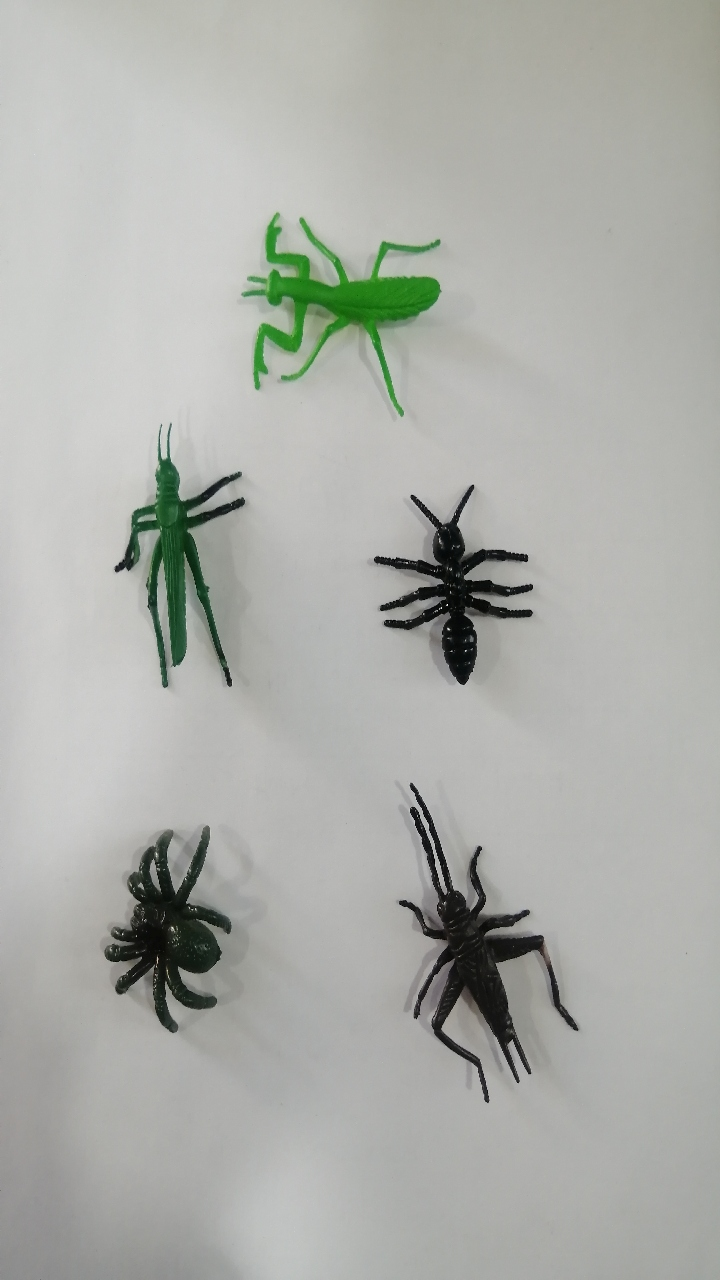intruso: (366, 762, 595, 1115), (203, 183, 475, 449), (92, 391, 271, 719), (77, 785, 275, 1071), (369, 439, 552, 729)
